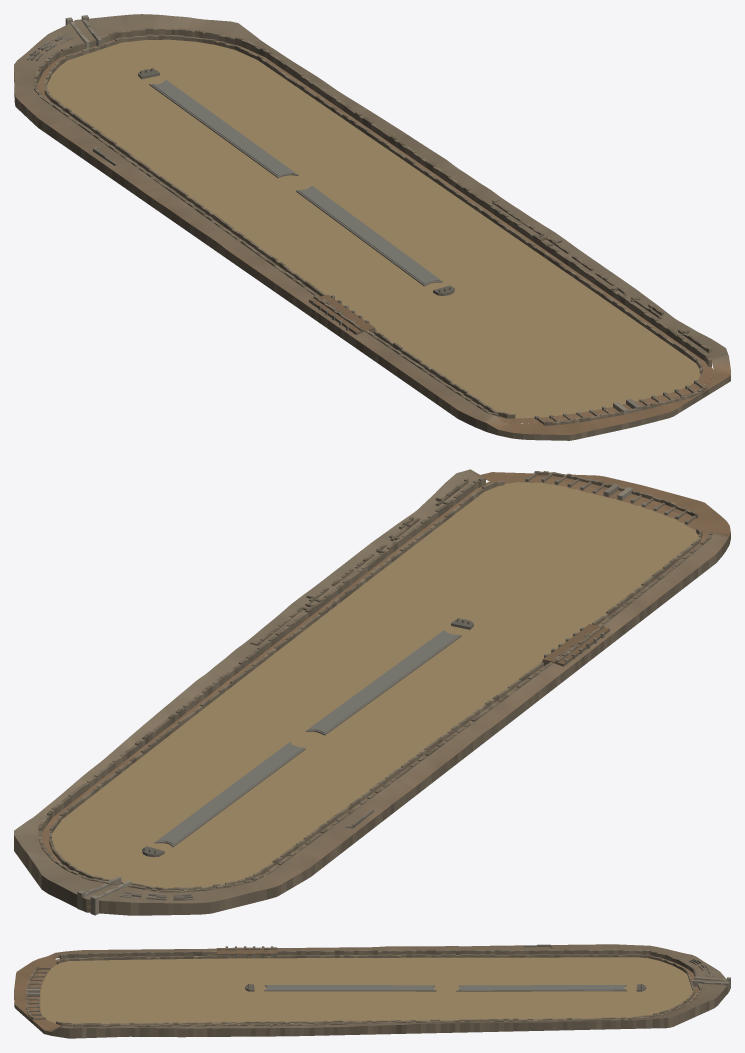
The picture shows the model from 3 angles, top to bottom: view 1: azimuth 30°, elevation 25°; view 2: azimuth 150°, elevation 25°; view 3: azimuth 270°, elevation 25°; orthographic projection. The views are drawn at different scales.
Parts seen in each view (by area): view 1: circo_romano; view 2: circo_romano; view 3: circo_romano.
Part boxes in pixels (x1,y1,x2,y2): circo_romano: (14,14,730,440); circo_romano: (14,469,730,915); circo_romano: (14,944,730,1038).
Bounding box in the file's own units: 127 × 7.1 × 436.
